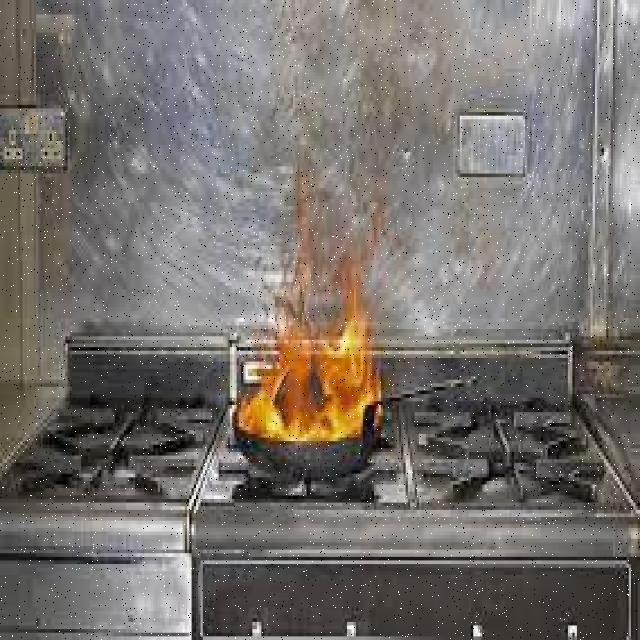fire: (232, 114, 384, 439)
